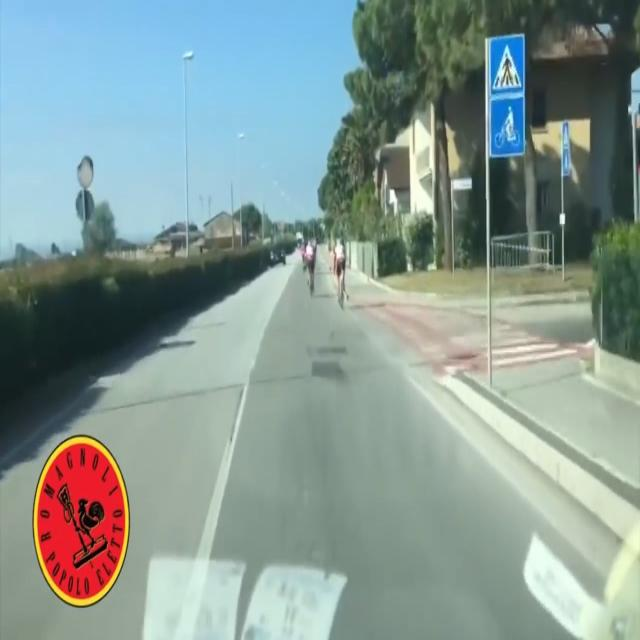Pedestrian crosswalk: (489, 34, 526, 95)
